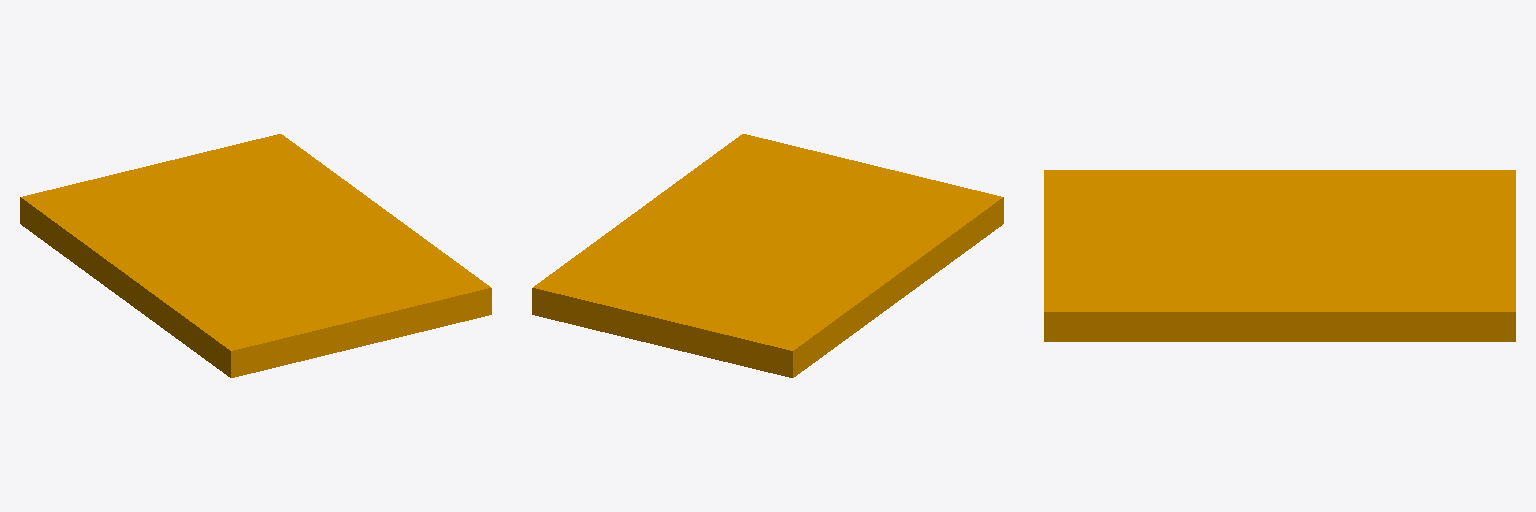
URDF robot description (table):
<robot name="table">
  <link name="table">

    <!-- rosrun gazebo_ros spawn_model -file $(rospack find ur5_single_arm_tufts)/urdf/objects/table.urdf -urdf -x 0.5 -y -0 -z 0.75 -model table -->
    
    <inertial>
      <origin xyz="0.23 0 0.755" rpy="0 0 0" />
      <mass value="1"/>
      <inertia
        ixx="0.07" ixy="0.0" ixz="0.0"
        iyy="0.40" iyz="0.0"
        izz="0.33"/>
    </inertial>

    <visual>
      <geometry>
        <box size="0.5 0.7 0.05"/>
      </geometry>
    </visual>

    <collision>
      <geometry>
        <box size="0.5 0.7 0.05"/>
      </geometry>
    </collision>

  </link>

  <gazebo reference="table">
    <material>Gazebo/Wood</material>
  </gazebo> 

  <gazebo>
    <static>true</static>
  </gazebo>

</robot>

--- Render facts (derived) ---
3 views of the same robot in one strip: view 1: azimuth 30°, elevation 25°; view 2: azimuth 150°, elevation 25°; view 3: azimuth 270°, elevation 25° (orthographic).
Robot: table — 1 links, 0 joints (none); root link table; default pose: all joints at 0.
Visible links, largest first — view 1: table; view 2: table; view 3: table.
Boxes of the visible links, x1,y1,x2,y2 form: table: [20, 134, 491, 377]; table: [532, 134, 1003, 377]; table: [1044, 170, 1515, 341].
Size in the robot's own frame: 0.5 by 0.7 by 0.05 metres.
Geometry: primitives only (box / cylinder / sphere), no mesh files.
